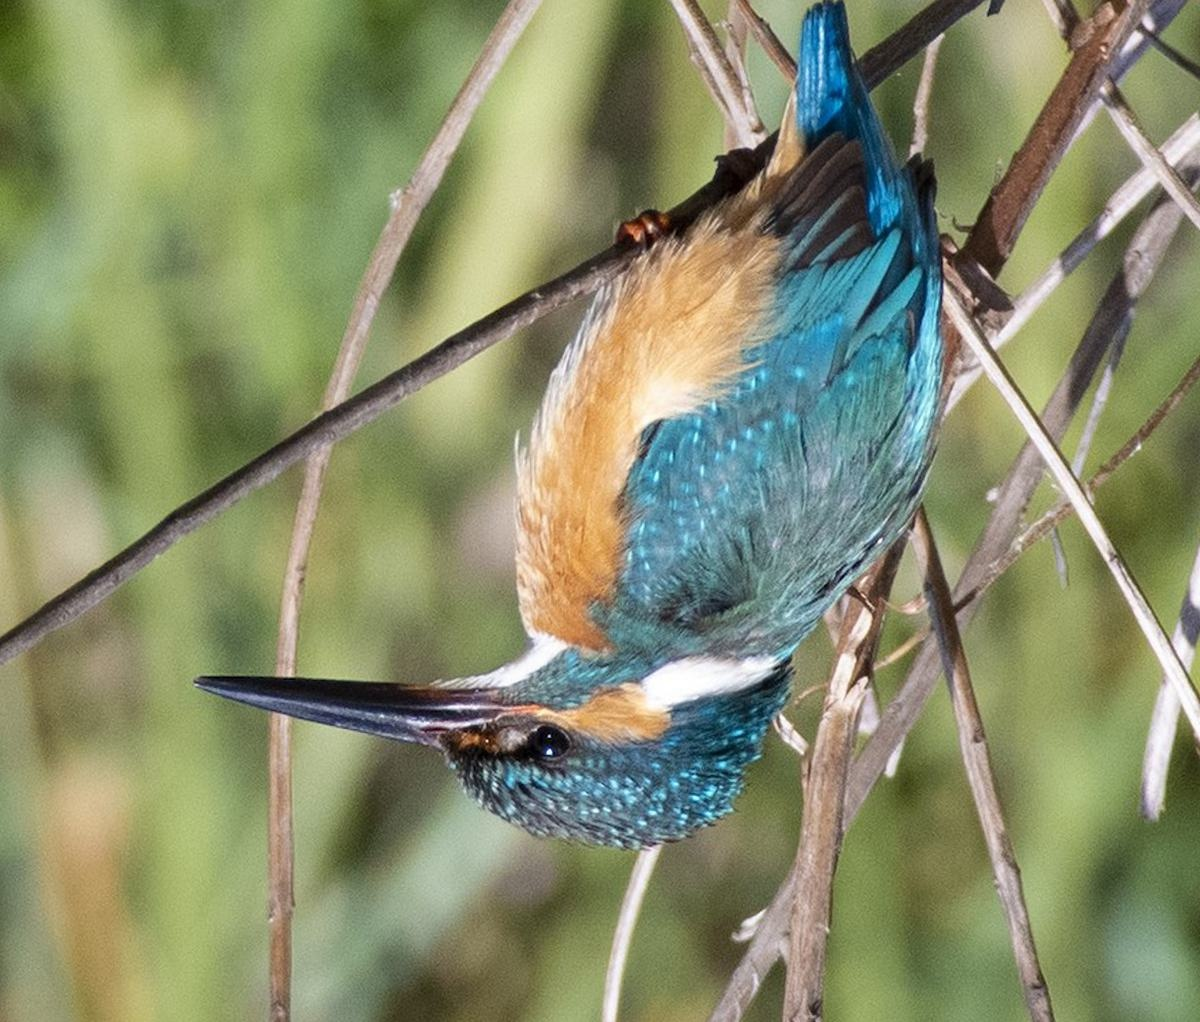kingfisher: (195, 67, 957, 848)
